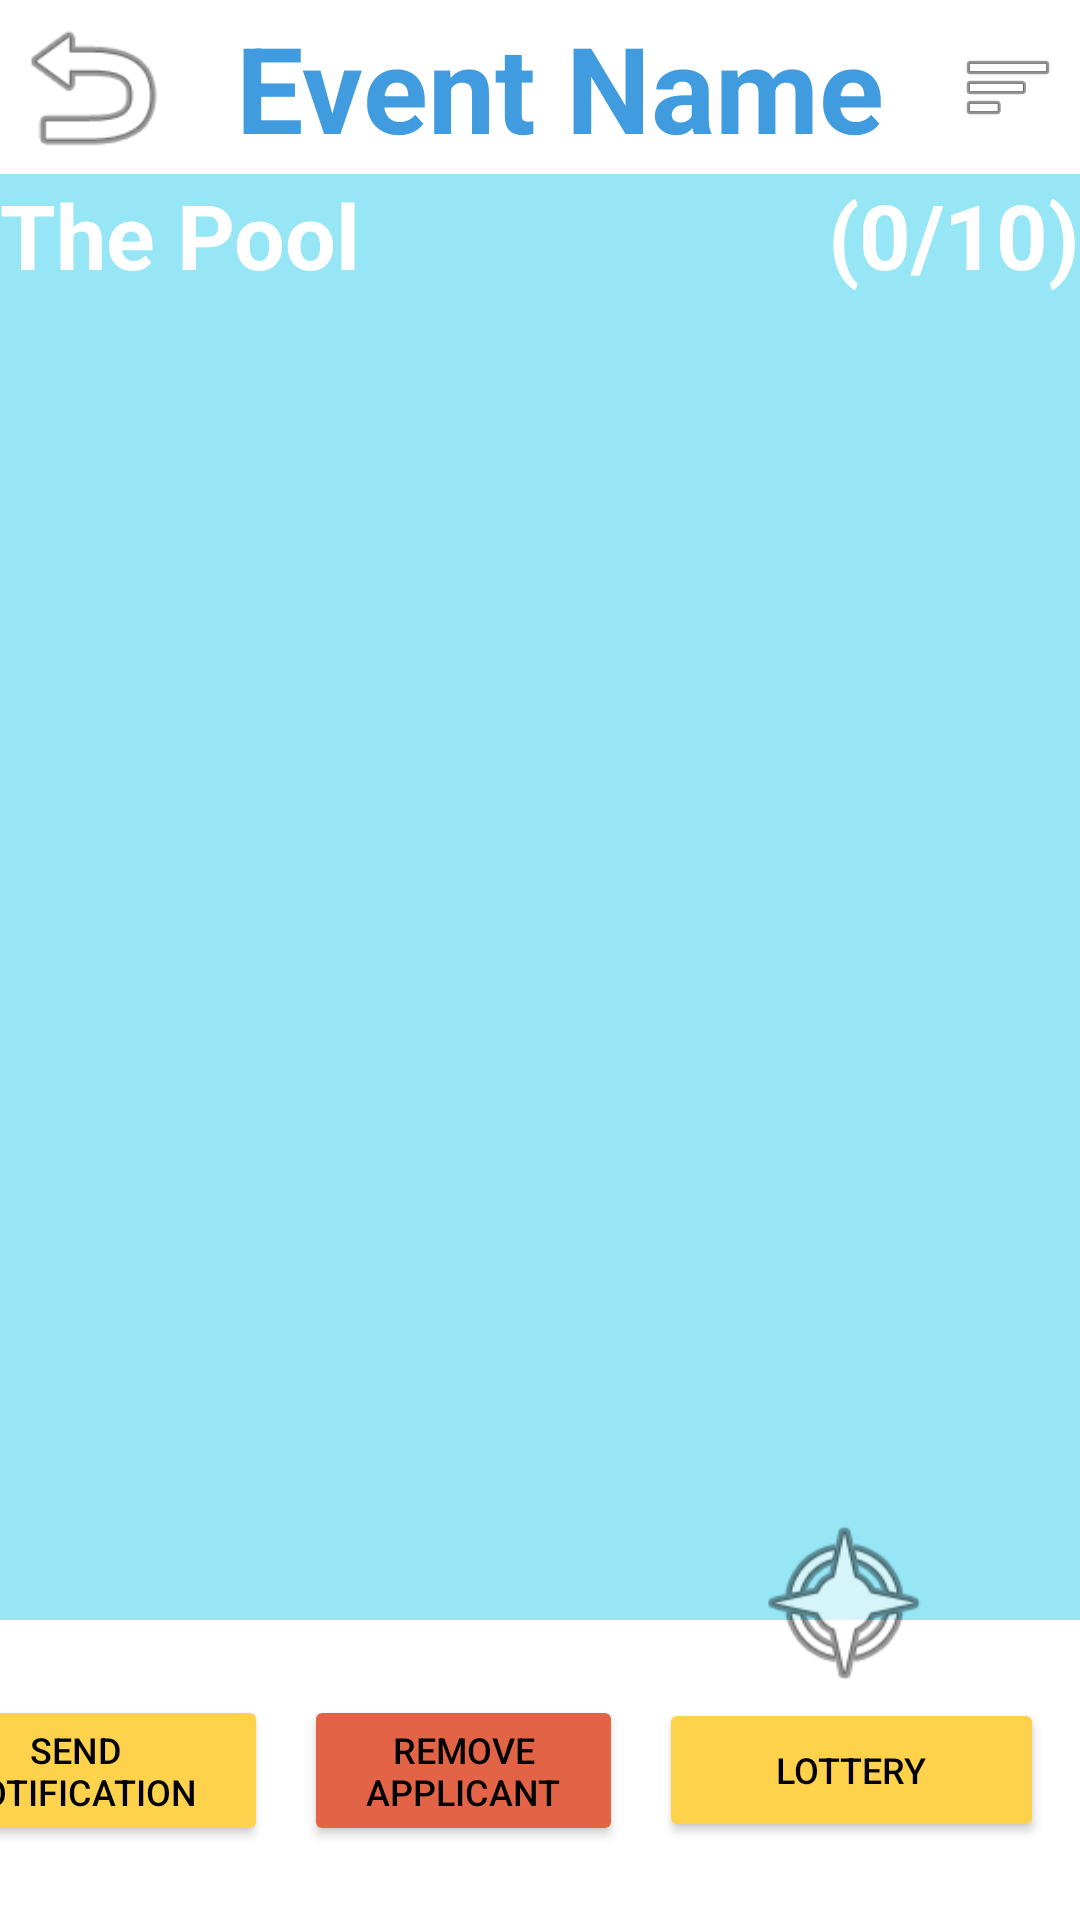

Named icons in this screenshot (1080x1920) and their centers, [x,y]:
Back: [94,88]
compass: [844,1602]
